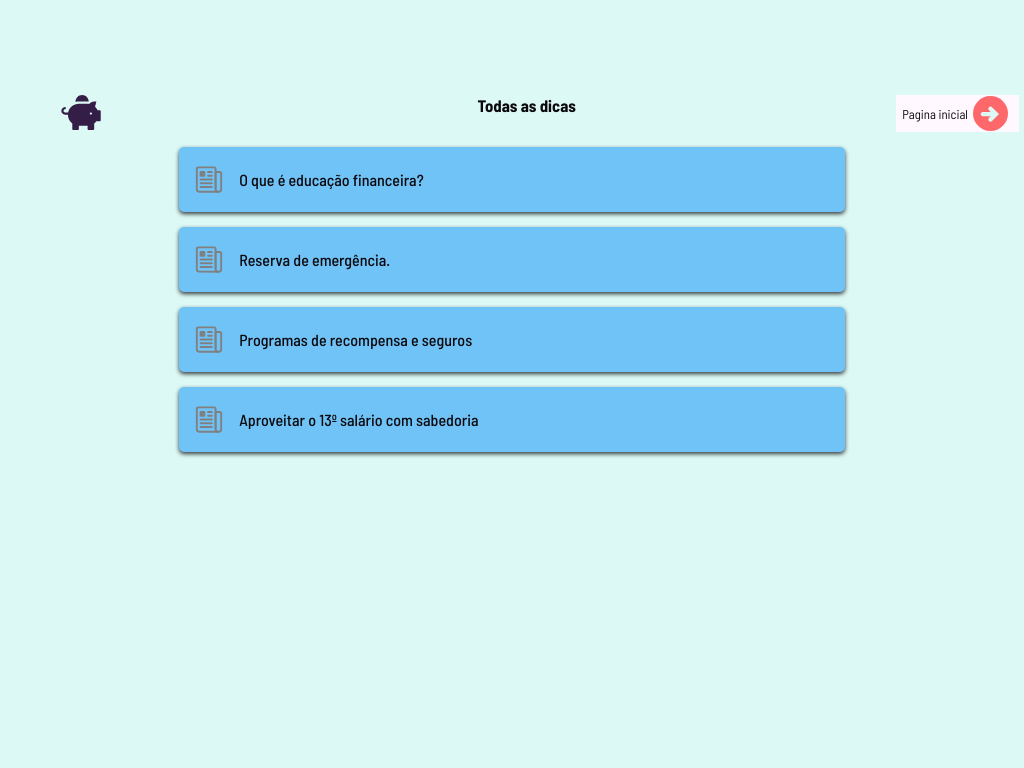
Test: When everything is ok. › when the user clicks a button tipsTwo it should render the article
This screenshot has width=1024, height=768.
Click the button with test id "tipsTwo" at (315,260), box [179,227,845,292]
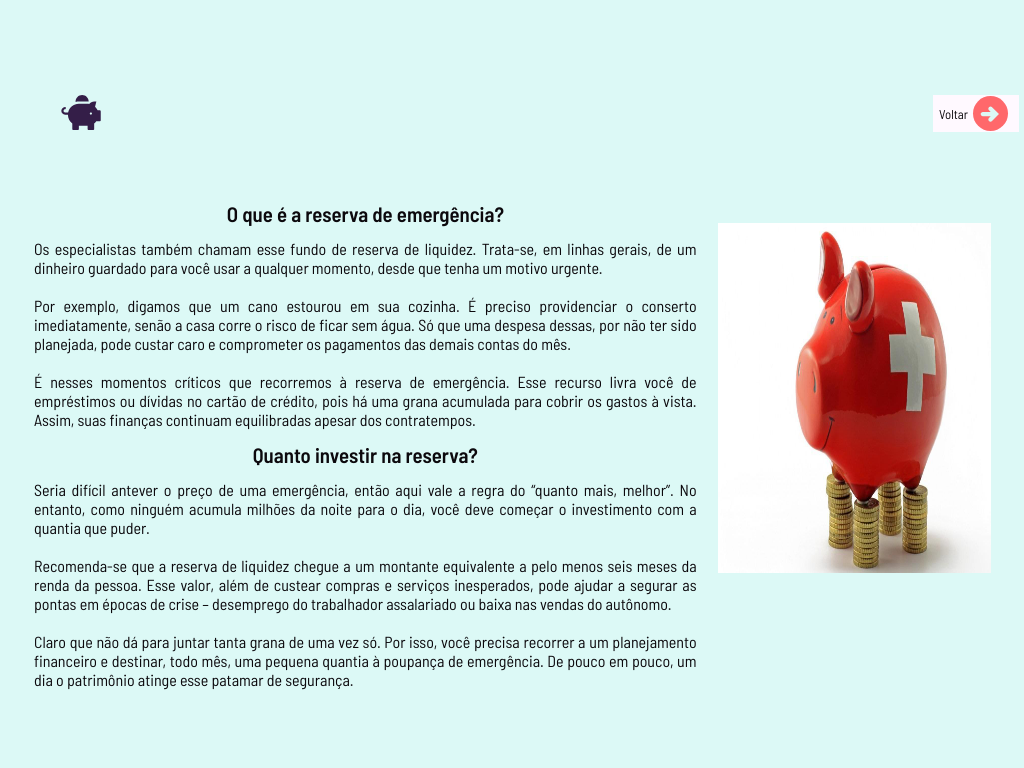
Check: the heading "O que é a reserva de emergência?" is shown, box [227,201,504,226]
